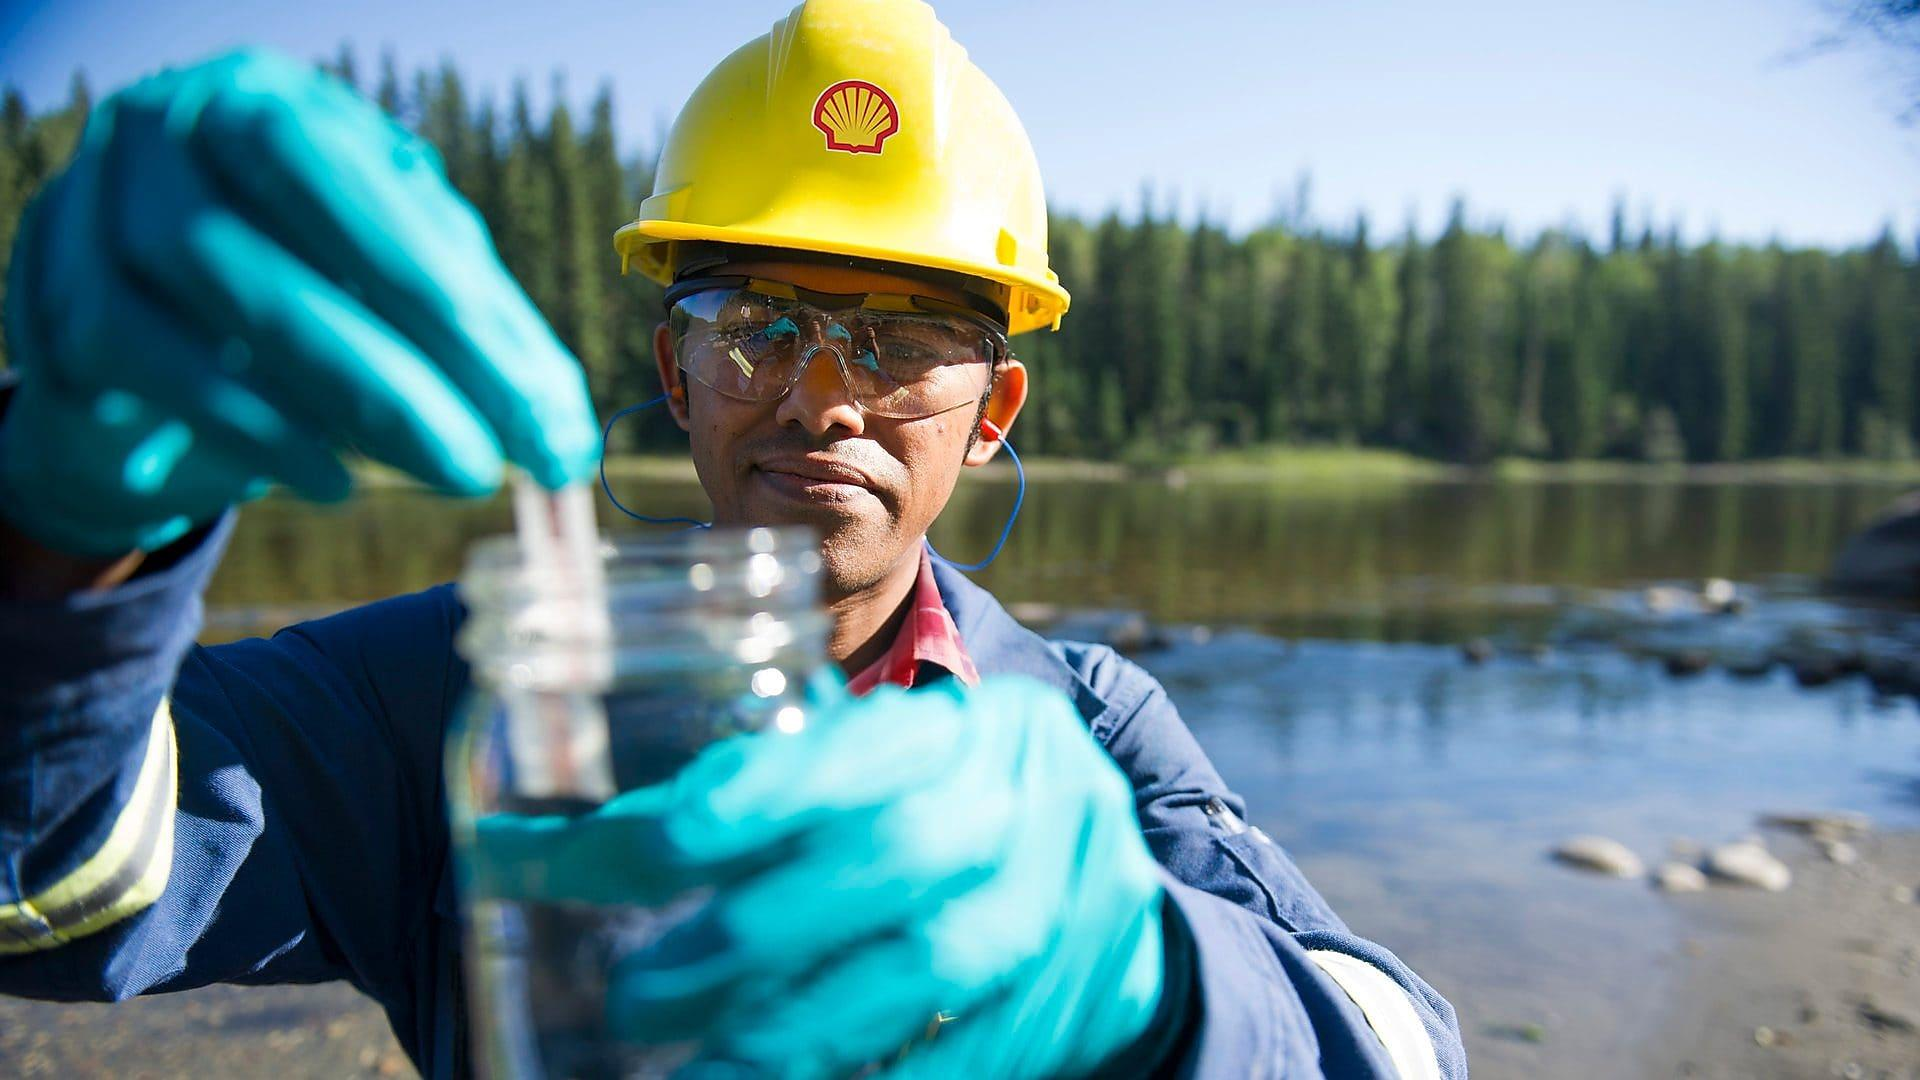helmet: (611, 1, 1069, 340)
